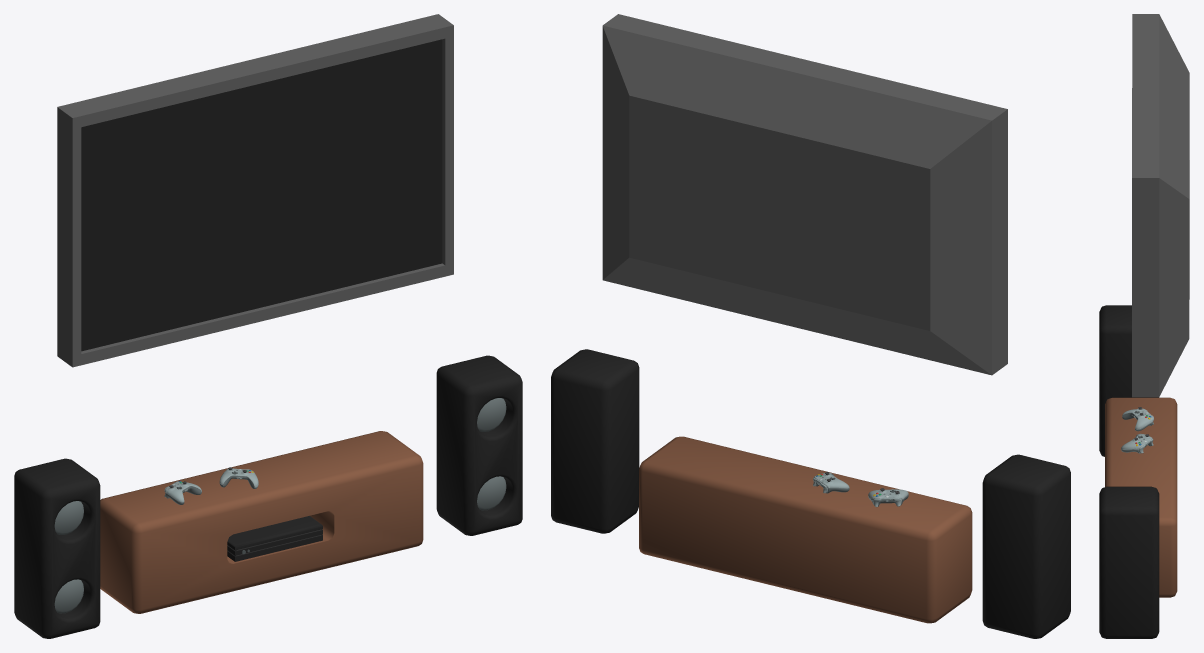
File: Game-Room-Playstation-Set.fbx
The picture shows the model from 3 angles, left to right: view 1: azimuth 30°, elevation 25°; view 2: azimuth 150°, elevation 25°; view 3: azimuth 270°, elevation 25°; orthographic projection. The views are drawn at different scales.
Visible parts, largest first — view 1: Playstation-TV, Playstation-Set-Table, Speaker-1, Speaker-2, Playstation; view 2: Playstation-TV, Playstation-Set-Table, Speaker-1, Speaker-2; view 3: Playstation-TV, Speaker-2, Playstation-Set-Table, Speaker-1, Game-Console-1, Game-Console-2.
Part boxes in pixels (<box>): Playstation-TV: <box>57,14,453,367</box>; Playstation-Set-Table: <box>100,431,423,613</box>; Speaker-1: <box>14,458,100,638</box>; Speaker-2: <box>436,355,522,535</box>; Playstation: <box>227,516,322,561</box>; Playstation-TV: <box>602,14,1007,375</box>; Playstation-Set-Table: <box>639,436,972,623</box>; Speaker-1: <box>982,454,1070,638</box>; Speaker-2: <box>551,349,639,533</box>; Playstation-TV: <box>1132,14,1189,397</box>; Speaker-2: <box>1099,486,1159,638</box>; Playstation-Set-Table: <box>1105,397,1177,597</box>; Speaker-1: <box>1099,305,1158,456</box>; Game-Console-1: <box>1122,407,1153,431</box>; Game-Console-2: <box>1121,433,1153,453</box>.
Bounding box in the file's own units: 4.52 × 4.5 × 0.8337.
